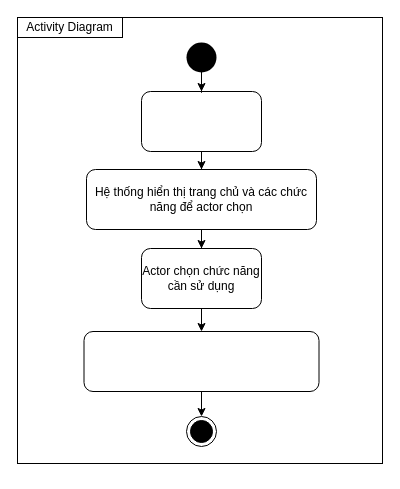
The diagram is 400 pixels wide and 489 high, and some of its shapes have lost their labels. Each missing label, with the box of its shape:
Actor đăng nhập vào hệ thống: (140, 90, 262, 152)
Hệ thống hiển thị danh mục của chức năng đã chọn: (83, 330, 319, 392)
